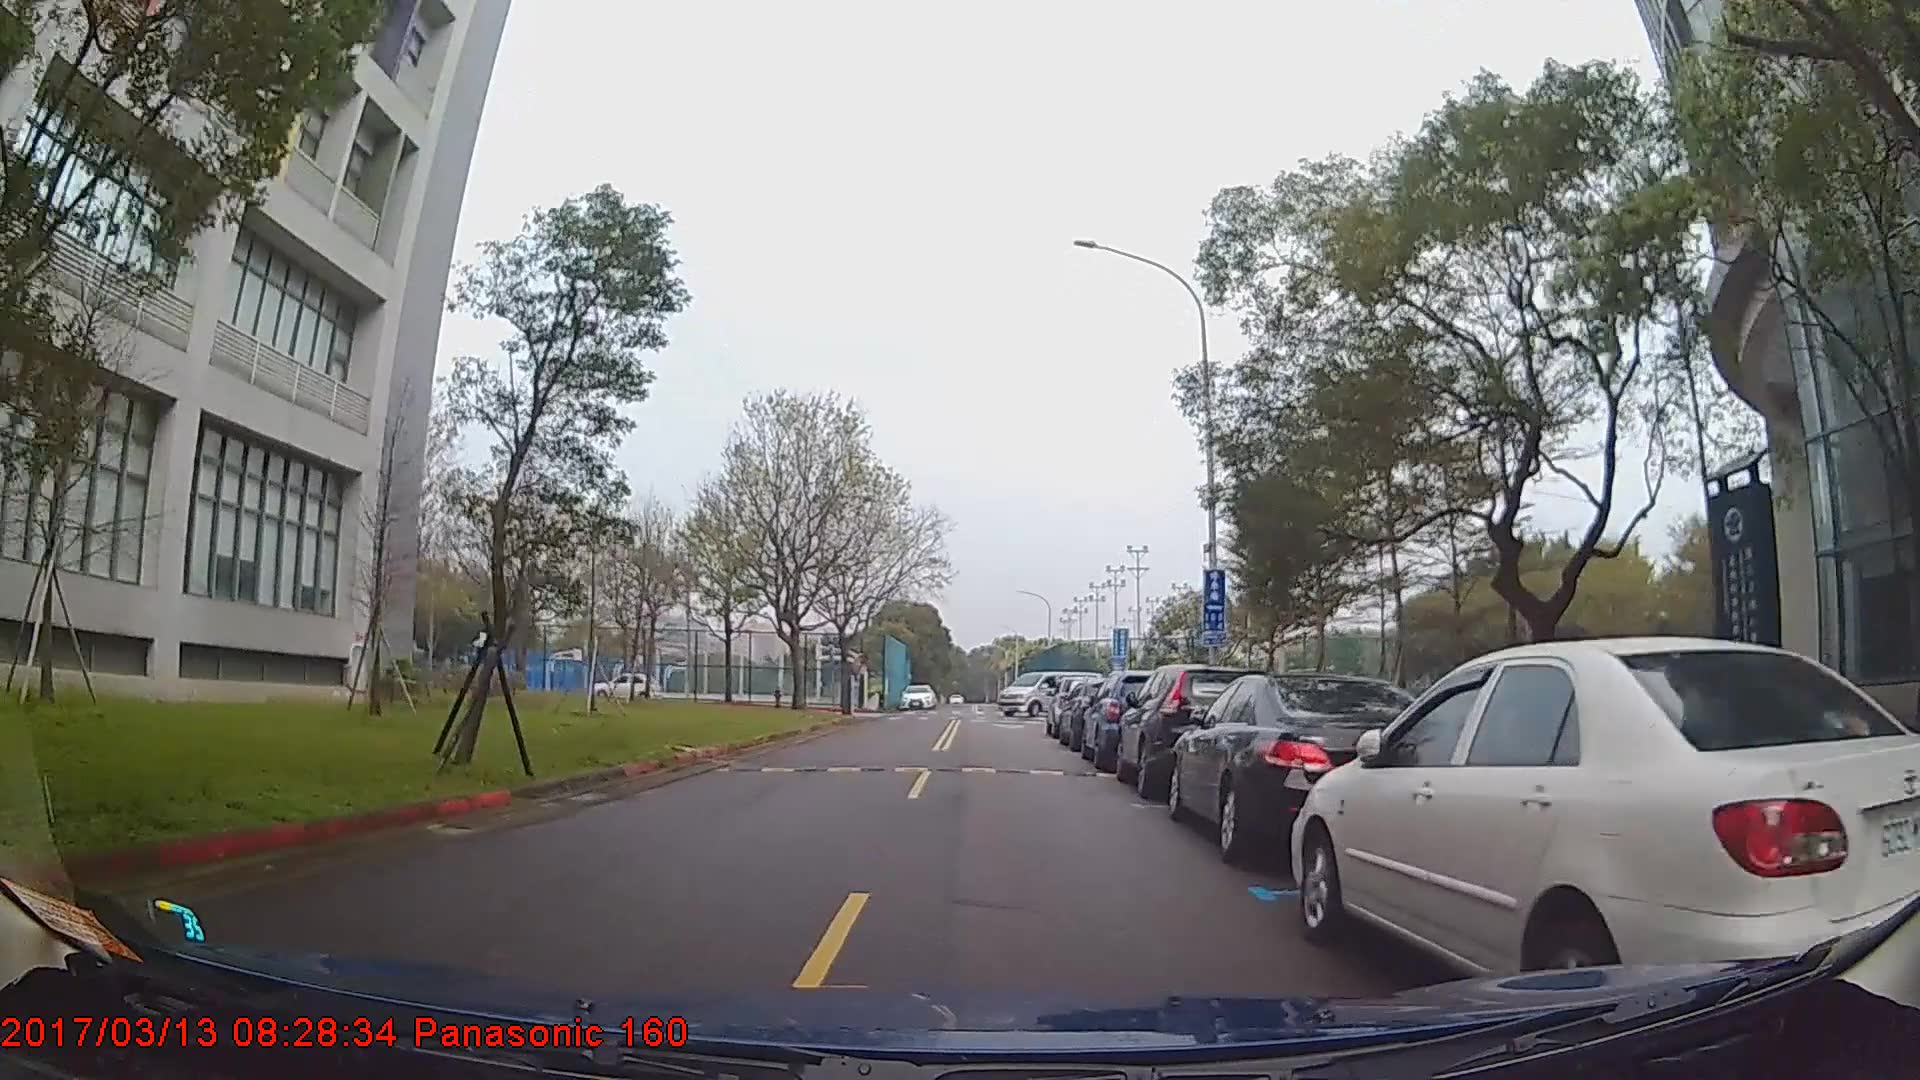vehicle: (1290, 632, 1920, 1025), (1168, 671, 1447, 864), (1112, 662, 1270, 799), (1080, 670, 1175, 773), (996, 669, 1104, 719), (588, 670, 661, 700), (898, 683, 936, 709)
